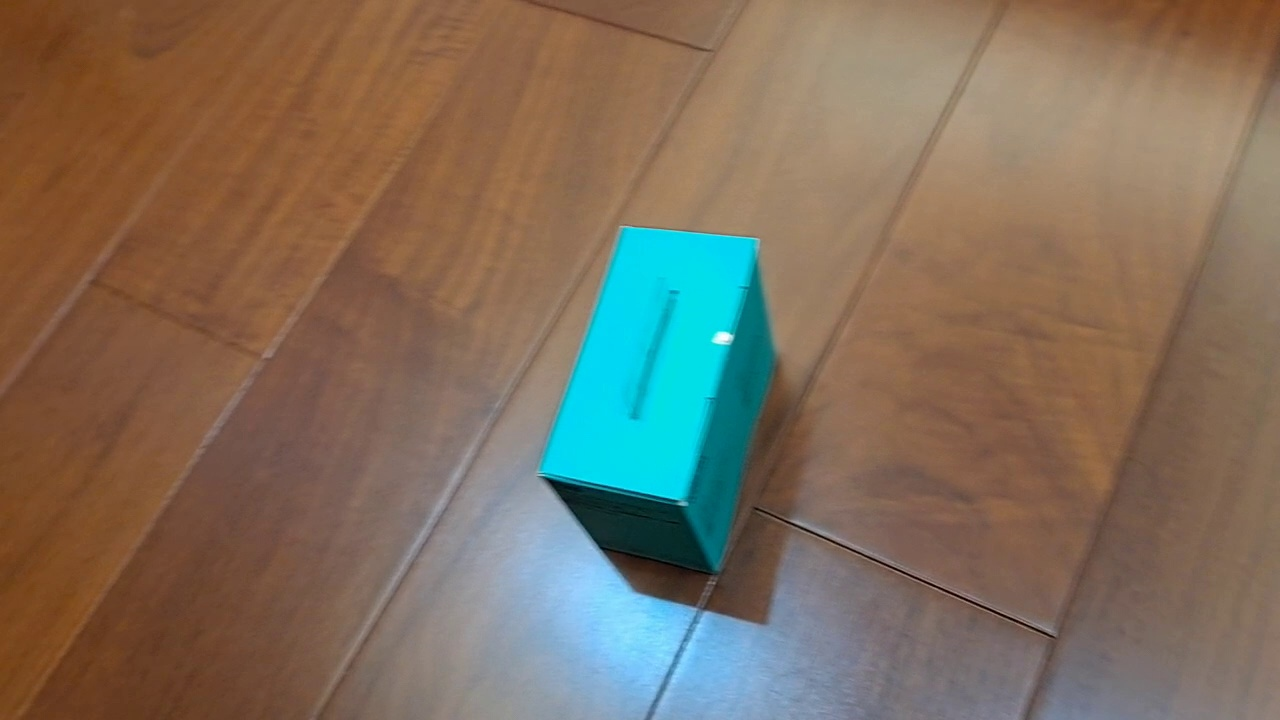webcam: (534, 223, 779, 576)
